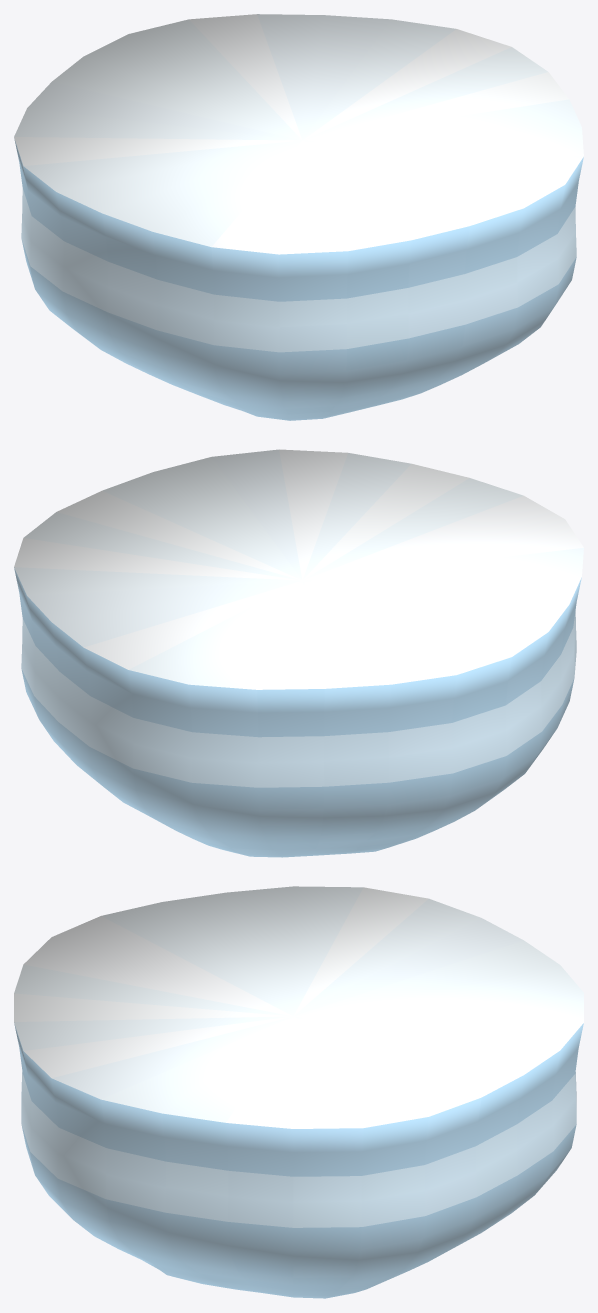
Rendered from Glacial_Rock.glb.
3 views of the same model, one above another, from view 1: azimuth 30°, elevation 25°; view 2: azimuth 150°, elevation 25°; view 3: azimuth 270°, elevation 25° (orthographic).
Parts seen in each view (by area): view 1: GlacialRock; view 2: GlacialRock; view 3: GlacialRock.
Part boxes in pixels (x1,y1,x2,y2): GlacialRock: [14, 14, 583, 420]; GlacialRock: [14, 449, 583, 857]; GlacialRock: [14, 886, 583, 1298].
Bounding box in the file's own units: 1.68 × 0.8355 × 1.67.
